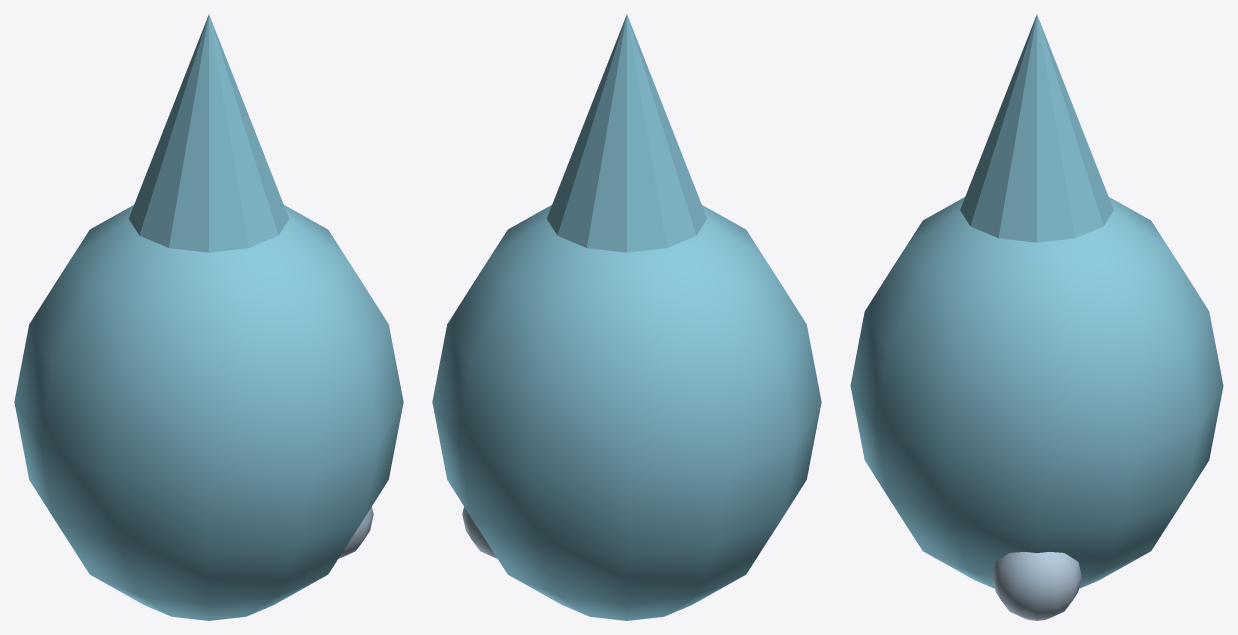
The model's file is deco_wisp_lite.glb.
3 views of the same model, side by side, from view 1: azimuth 30°, elevation 25°; view 2: azimuth 150°, elevation 25°; view 3: azimuth 270°, elevation 25° (orthographic). The views are drawn at different scales.
Parts seen in each view (by area): view 1: Sphere; view 2: Sphere; view 3: Sphere.
Boxes of the visible parts, bbox=[...] form: Sphere: bbox=[14, 14, 403, 620]; Sphere: bbox=[432, 14, 821, 620]; Sphere: bbox=[850, 14, 1223, 620].
Size of the model in its own units: 1 by 1.68 by 1.
